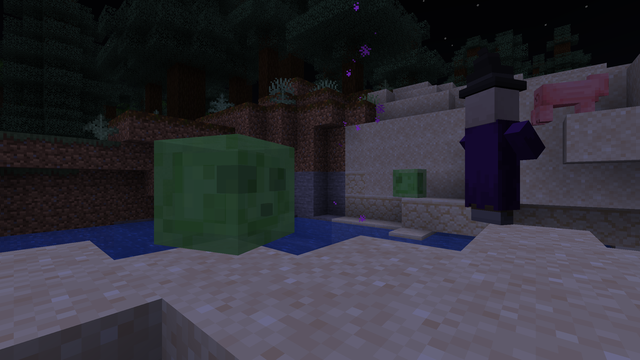cochons: (538, 74, 592, 126)
slimes: (159, 126, 299, 258), (393, 167, 426, 197)
sorcieres: (463, 77, 517, 226)
